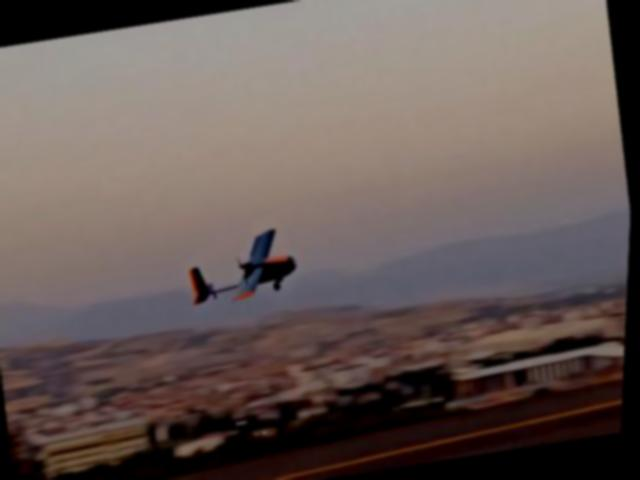uav: (174, 214, 312, 324)
